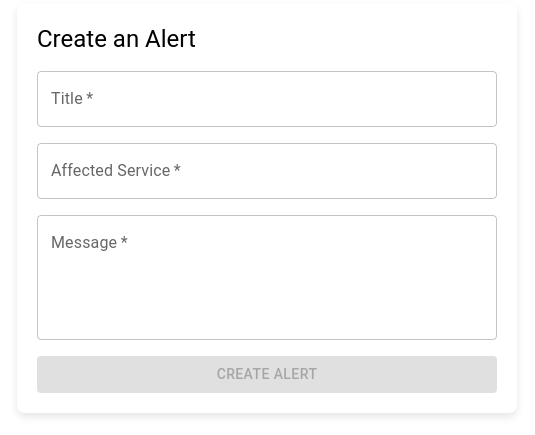
Test: AlertForm Component Tests › enables the submit button when all fields are filled
Step 1. Type "Test Title" into the field with test id "alert-title-input" → [267, 99], box top-left (37, 71), bottom-right (497, 127)
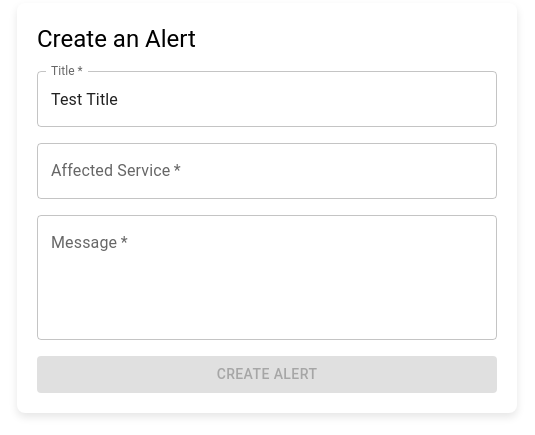
Step 2. Type "Test Service" into the field with test id "alert-affected-service-input" → [267, 171], box top-left (37, 143), bottom-right (497, 199)
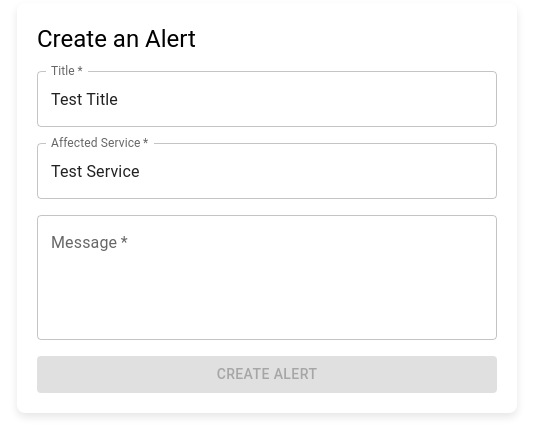
Step 3. Type "Test Message" into the text box with test id "alert-message-input" → [267, 278], box top-left (51, 232), bottom-right (483, 324)
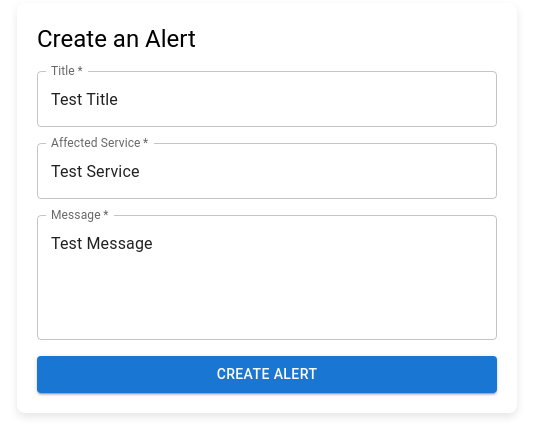
Check: the button with test id "alert-submit-button" is enabled, box top-left (37, 356), bottom-right (497, 392)
